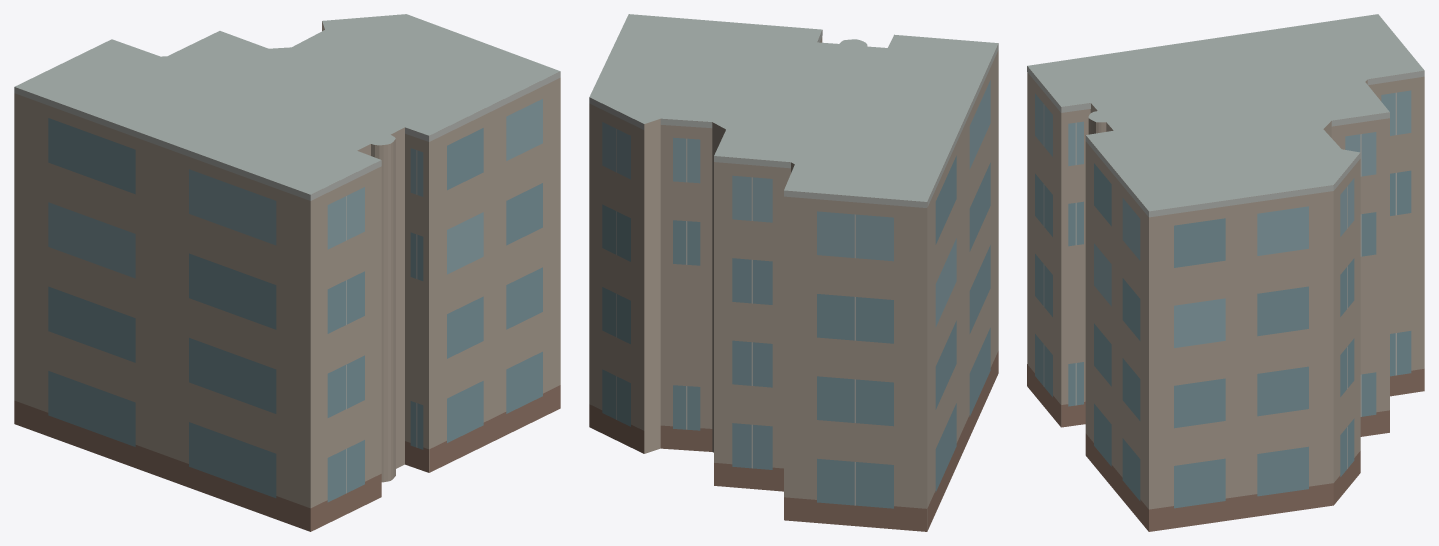
Rendered from survey-upis-32859771.glb.
3 views of the same model, side by side, from view 1: azimuth 30°, elevation 25°; view 2: azimuth 150°, elevation 25°; view 3: azimuth 270°, elevation 25° (orthographic). The views are drawn at different scales.
Parts seen in each view (by area): view 1: survey-upis-32859771.tmp; view 2: survey-upis-32859771.tmp; view 3: survey-upis-32859771.tmp.
Part boxes in pixels (x1=…): survey-upis-32859771.tmp: x1=14, y1=14, x2=560, y2=531; survey-upis-32859771.tmp: x1=589, y1=14, x2=998, y2=531; survey-upis-32859771.tmp: x1=1027, y1=14, x2=1424, y2=531.
Size of the model in its own units: 17.32 by 13.1 by 14.74.
